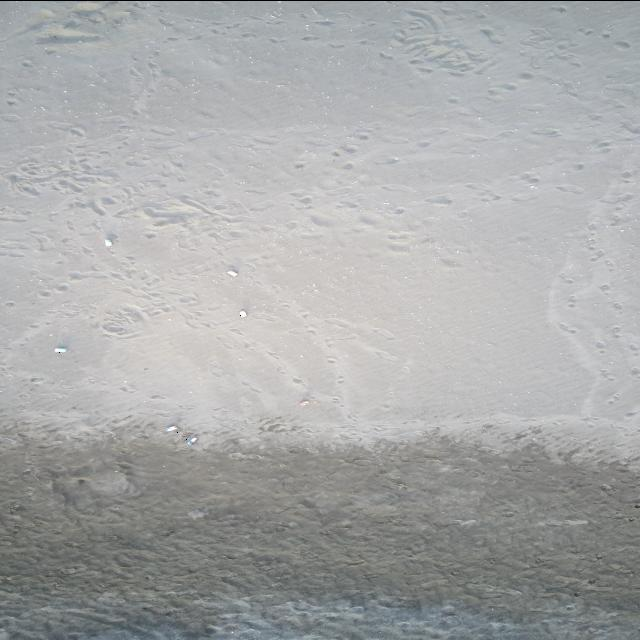Garbage: (164, 424, 196, 444), (185, 433, 196, 444), (164, 424, 176, 432), (226, 268, 237, 276), (54, 346, 65, 352), (104, 238, 111, 246), (239, 309, 246, 316)
